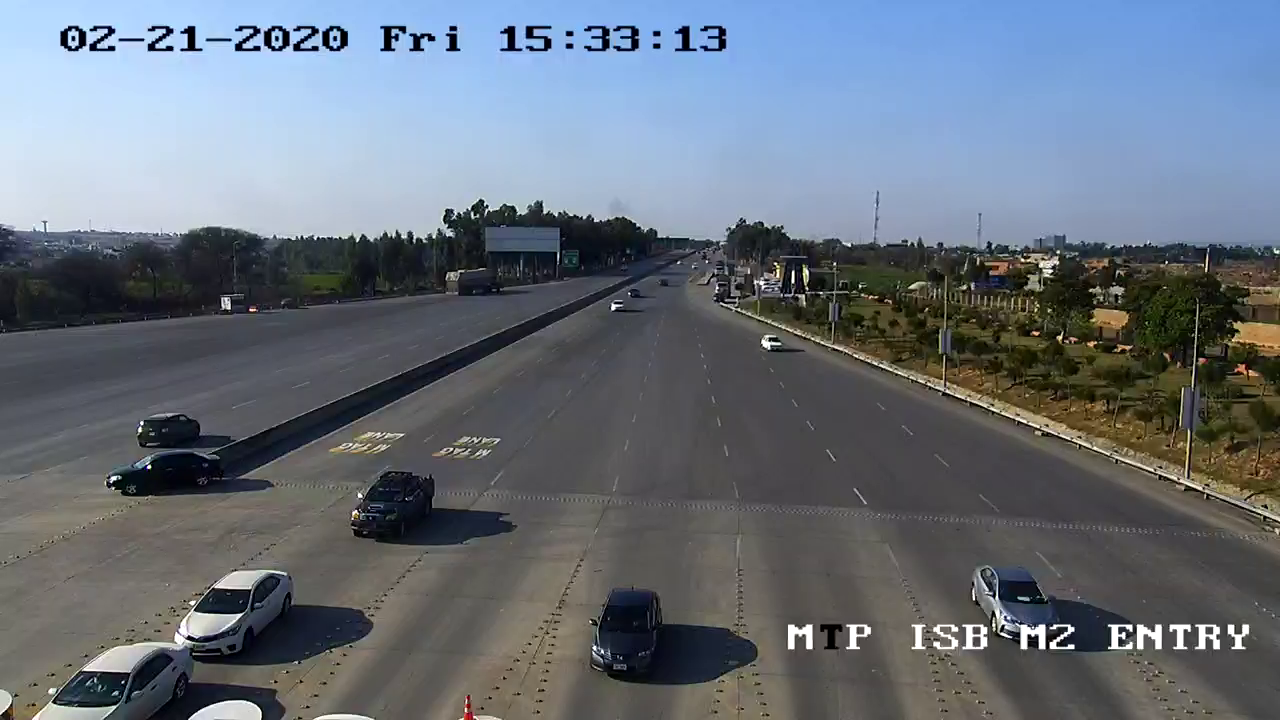f1: (166, 563, 299, 661), (572, 574, 674, 684), (342, 464, 443, 544)
